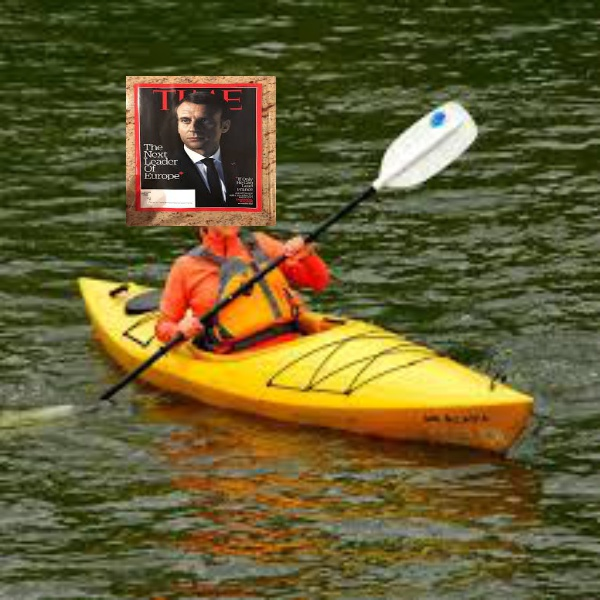time_cover: (125, 72, 270, 214)
